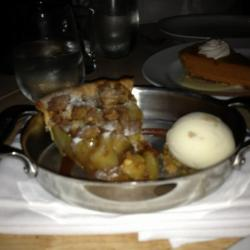apple_pie: (32, 72, 165, 198)
icecream: (161, 108, 238, 176)
